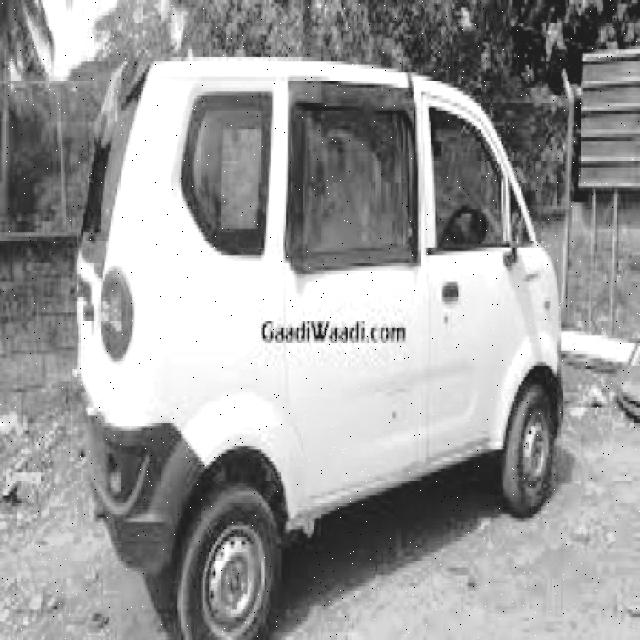LCV: (92, 61, 553, 568)
